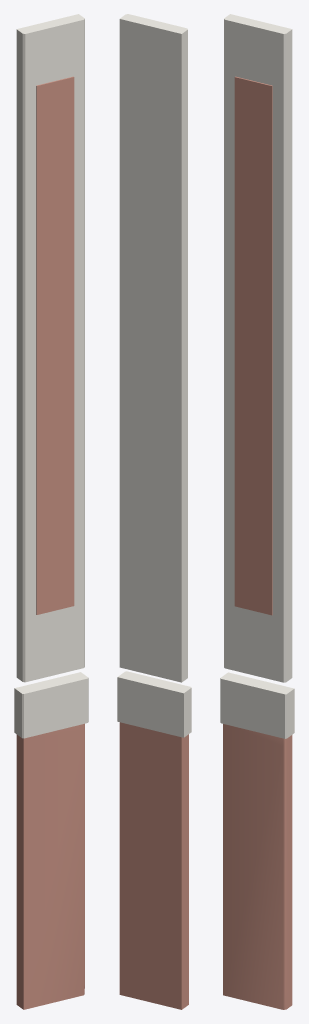
File: pilaster_g_a.glb
3 renders of one model, left to right at view 1: azimuth 30°, elevation 25°; view 2: azimuth 150°, elevation 25°; view 3: azimuth 330°, elevation 25°, orthographic.
Visible parts, largest first — view 1: pilaster_g_a_acc_a, pilaster_g_a_trim; view 2: pilaster_g_a_trim, pilaster_g_a_acc_a; view 3: pilaster_g_a_acc_a, pilaster_g_a_trim.
Boxes of the visible parts, <box> form: pilaster_g_a_acc_a: <box>16,76,84,1009</box>; pilaster_g_a_trim: <box>14,14,88,738</box>; pilaster_g_a_trim: <box>117,14,191,737</box>; pilaster_g_a_acc_a: <box>119,722,188,1009</box>; pilaster_g_a_acc_a: <box>223,76,292,1009</box>; pilaster_g_a_trim: <box>220,14,294,738</box>.
Bounding box in the file's own units: 0.32 × 4.5 × 0.07.
